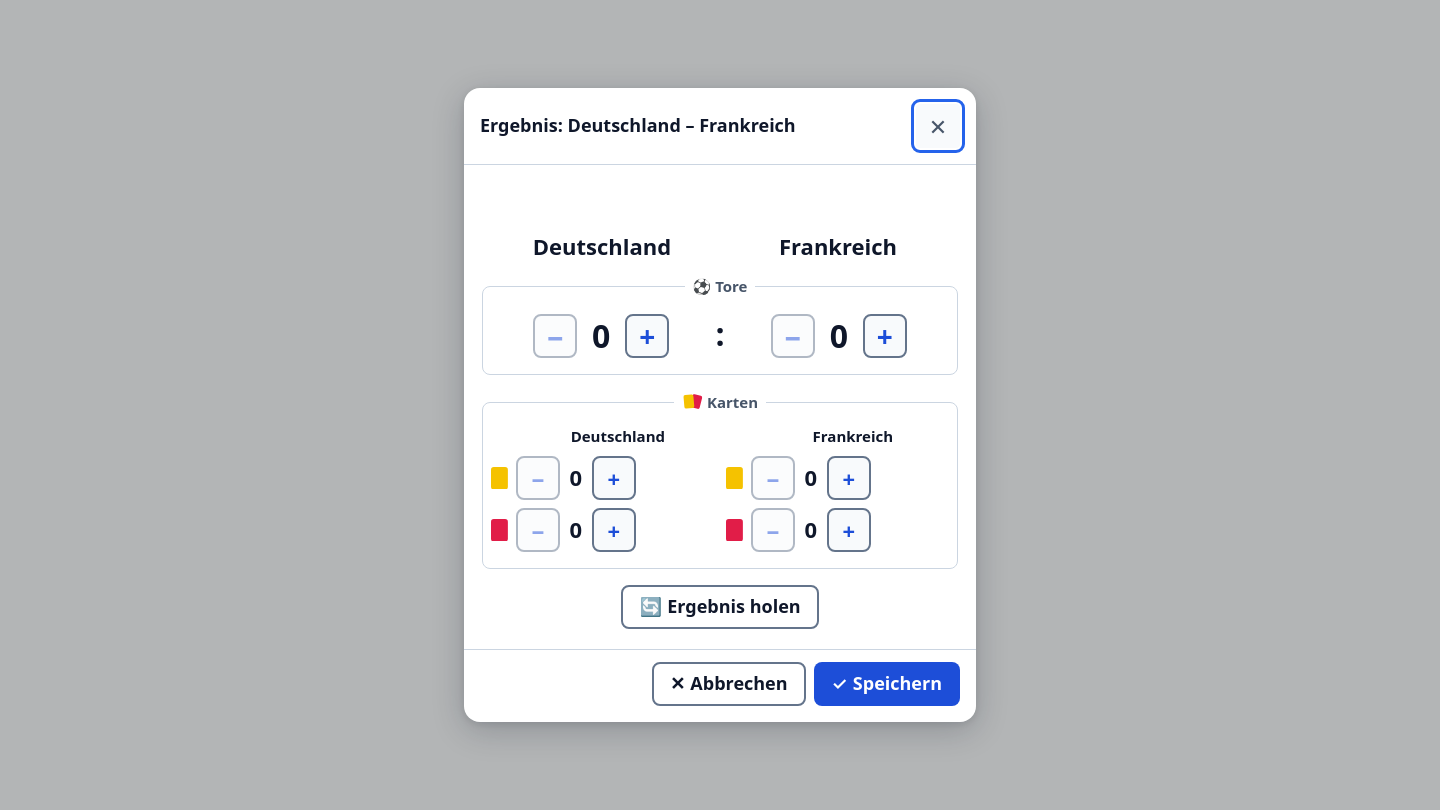
Test case: ScoreDialog › live result fetch › shows a message when no live result is found
This screenshot has width=1440, height=810.
Click the button "🔄 Ergebnis holen".
click(720, 607)  # box [621,585,819,629]
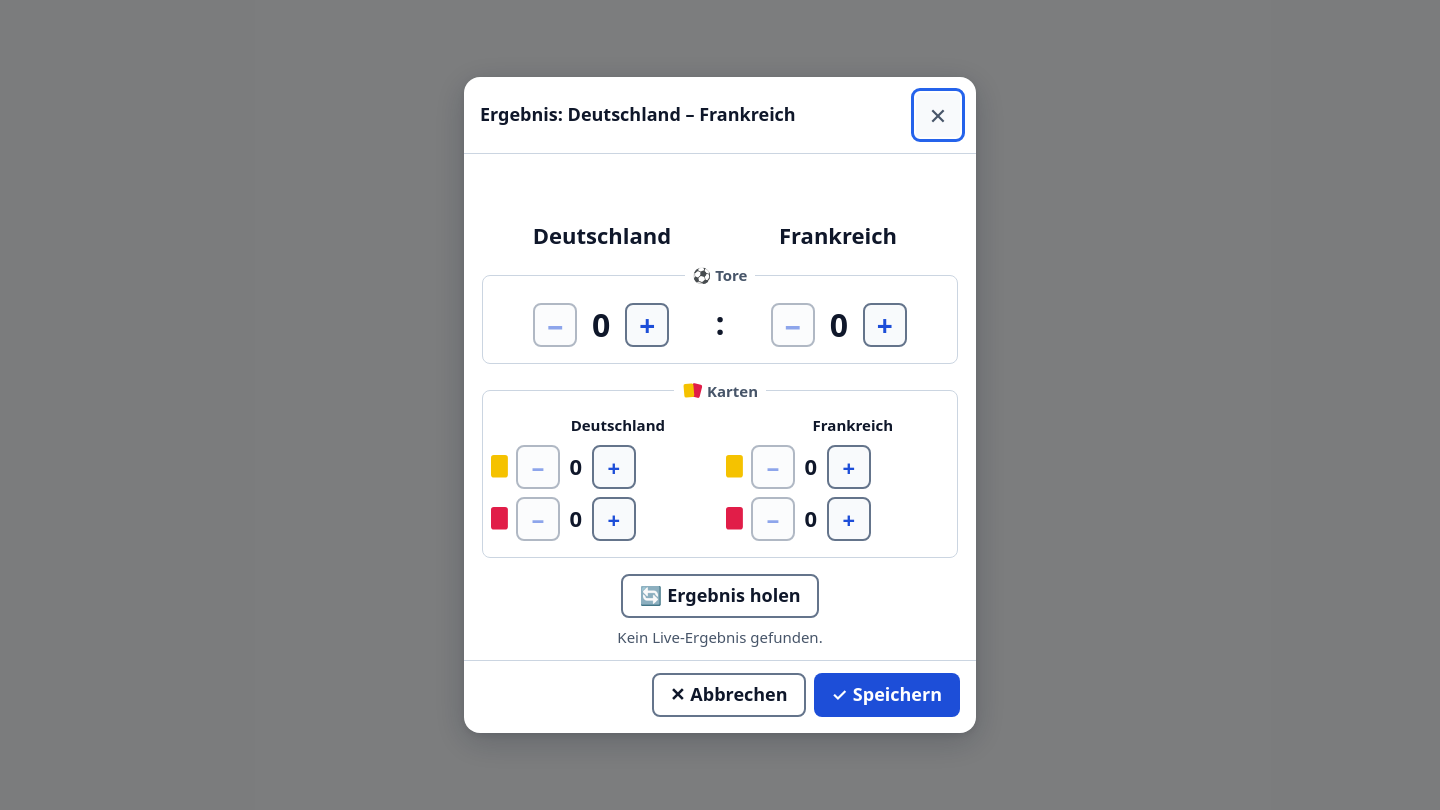
Result: the message "Kein Live-Ergebnis gefunden." is shown at [617,627,823,647]
